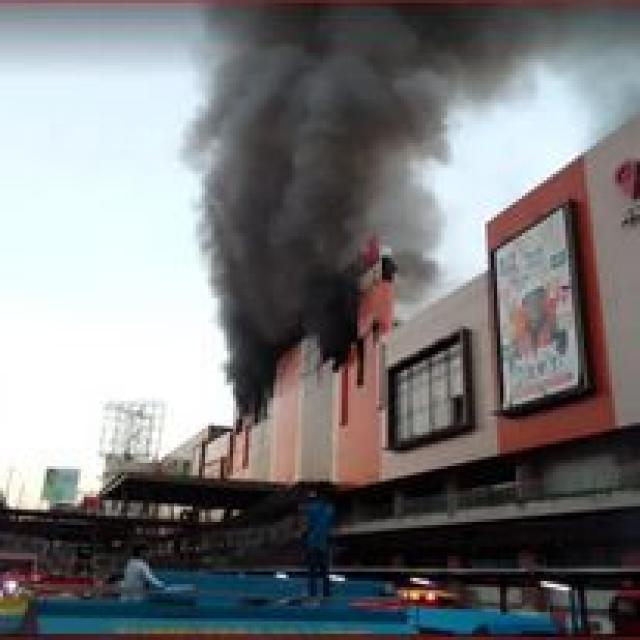Smoke: (170, 0, 454, 423)
